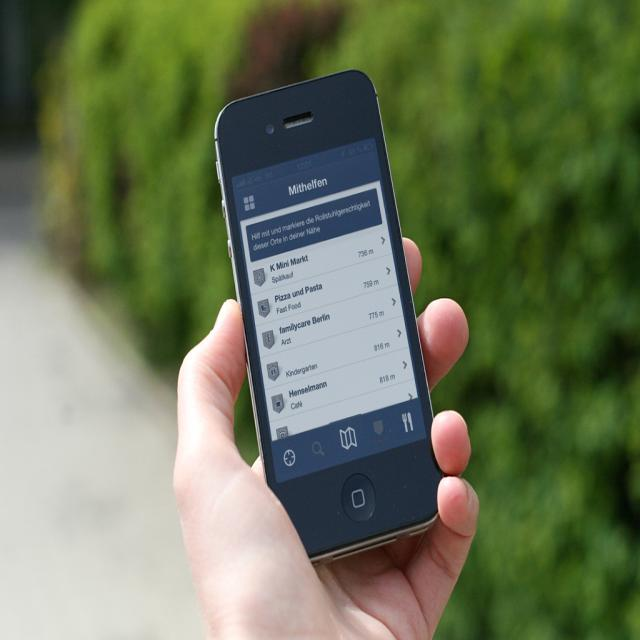Mobile-phone: (214, 63, 452, 572)
